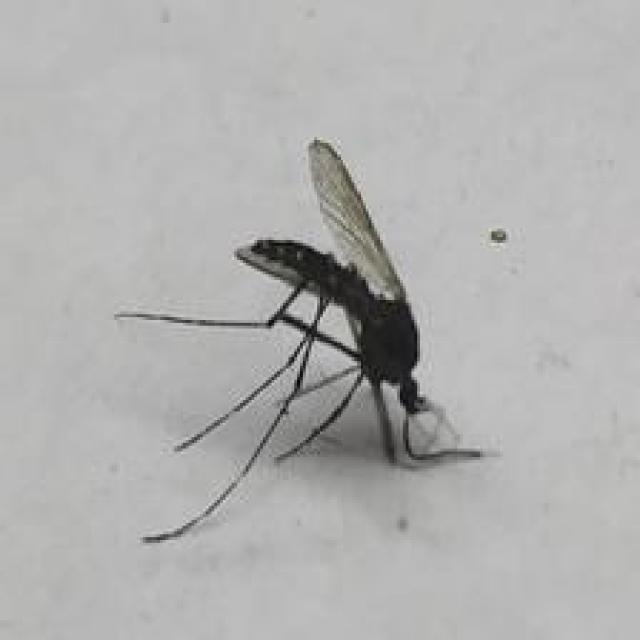Aedes albopictus: (113, 136, 490, 544)
